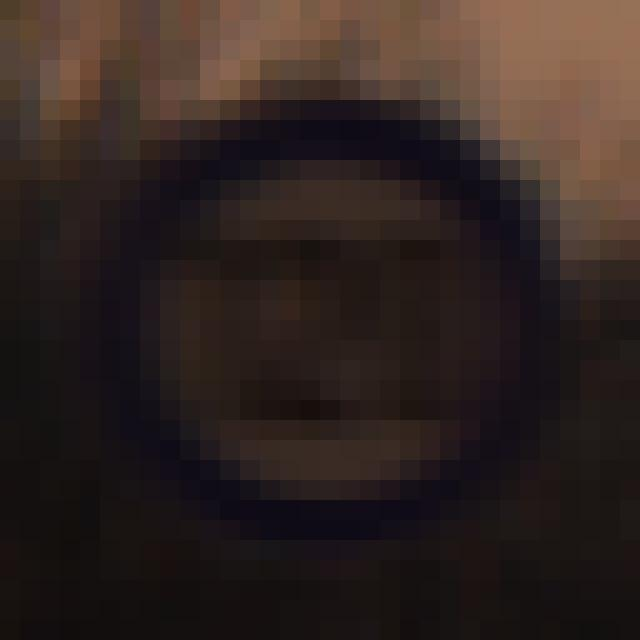SPEED LIMIT 120: (113, 113, 565, 535)
